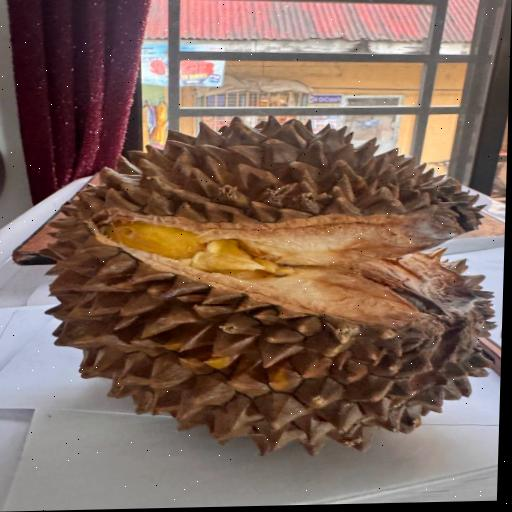rot: (11, 99, 506, 479)
